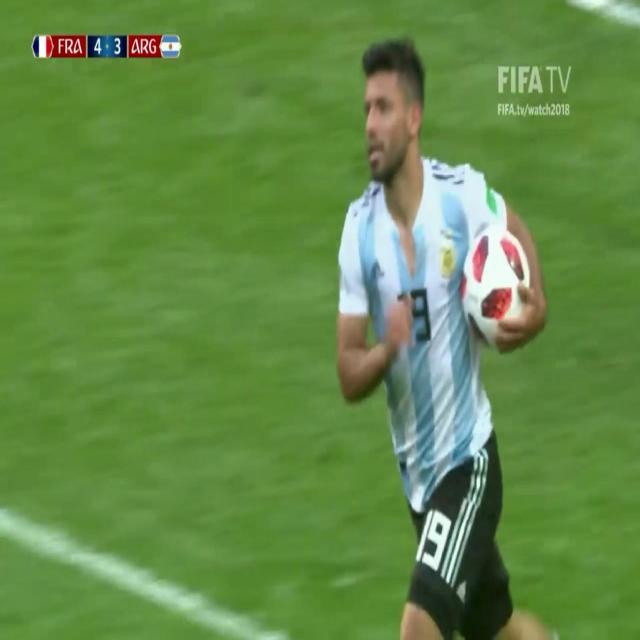ball: (454, 234, 552, 357)
player: (312, 14, 556, 640)
